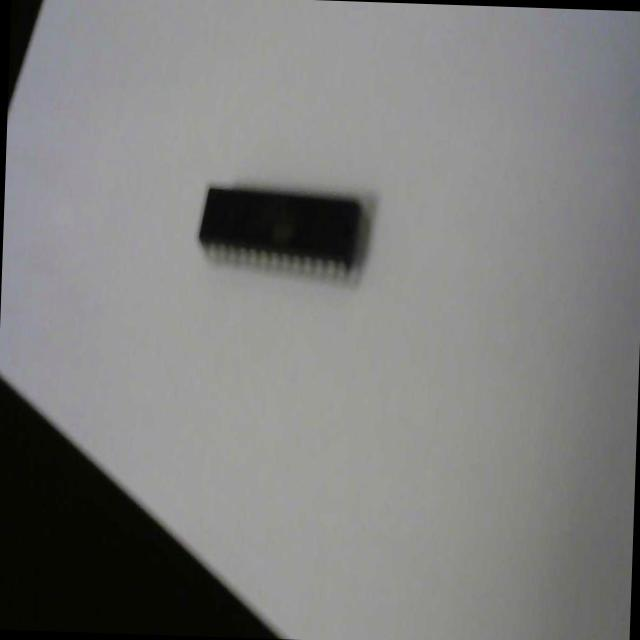atmega: (193, 176, 373, 290)
